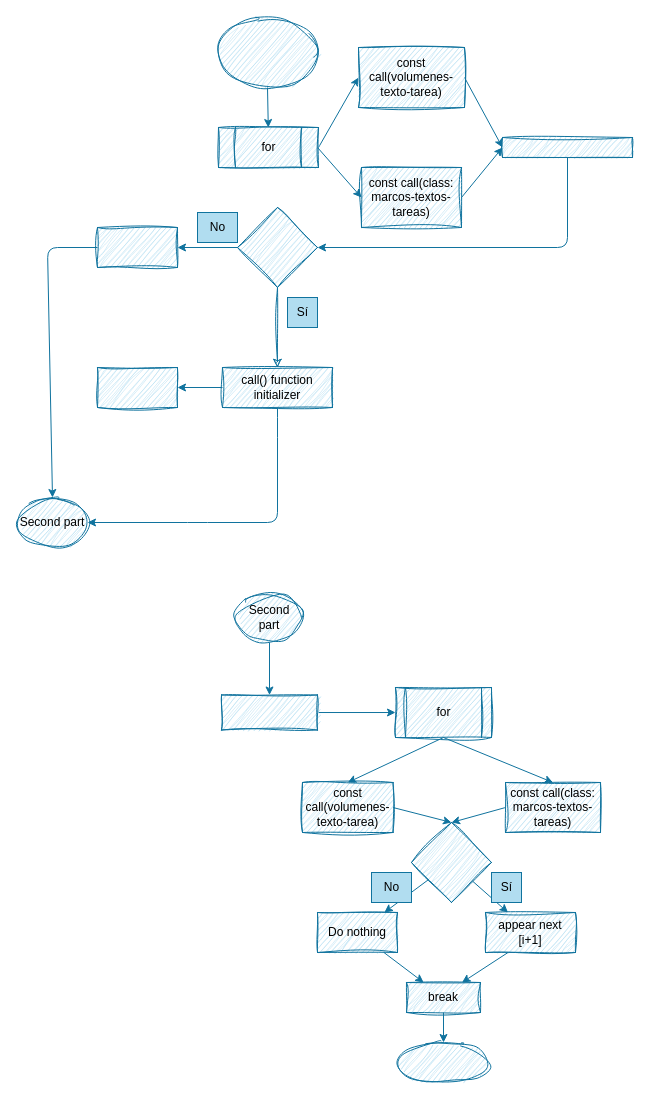
Some shapes in this 650 by 1100 pixel diagram are drawn without their labels. Here are the shapes that lost their labels. From the top down, the centre of each, then its label:
the point at 267,52: inicio
the point at 567,147: display none
the point at 137,247: createTask()
the point at 277,247: if create task is press
the point at 137,387: appear first task
the point at 269,712: call() createTask
the point at 451,862: if first element is In-f and second none
the point at 443,1062: End
